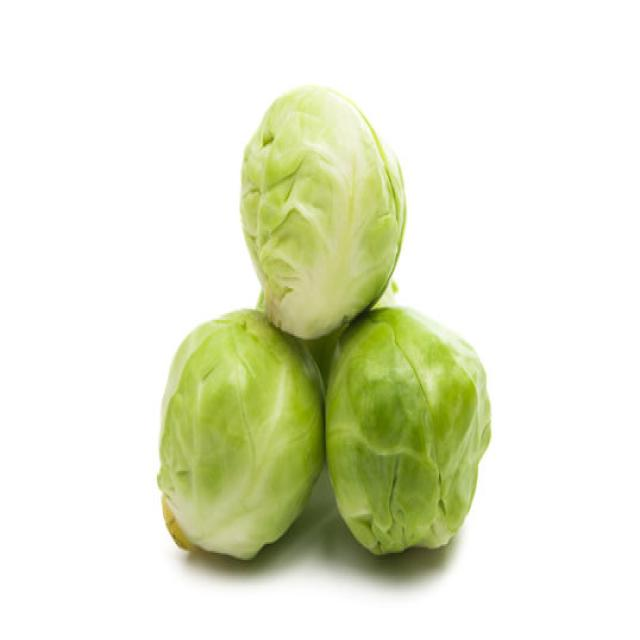Cabbage: (238, 82, 407, 340), (156, 306, 326, 560), (324, 304, 491, 556)
